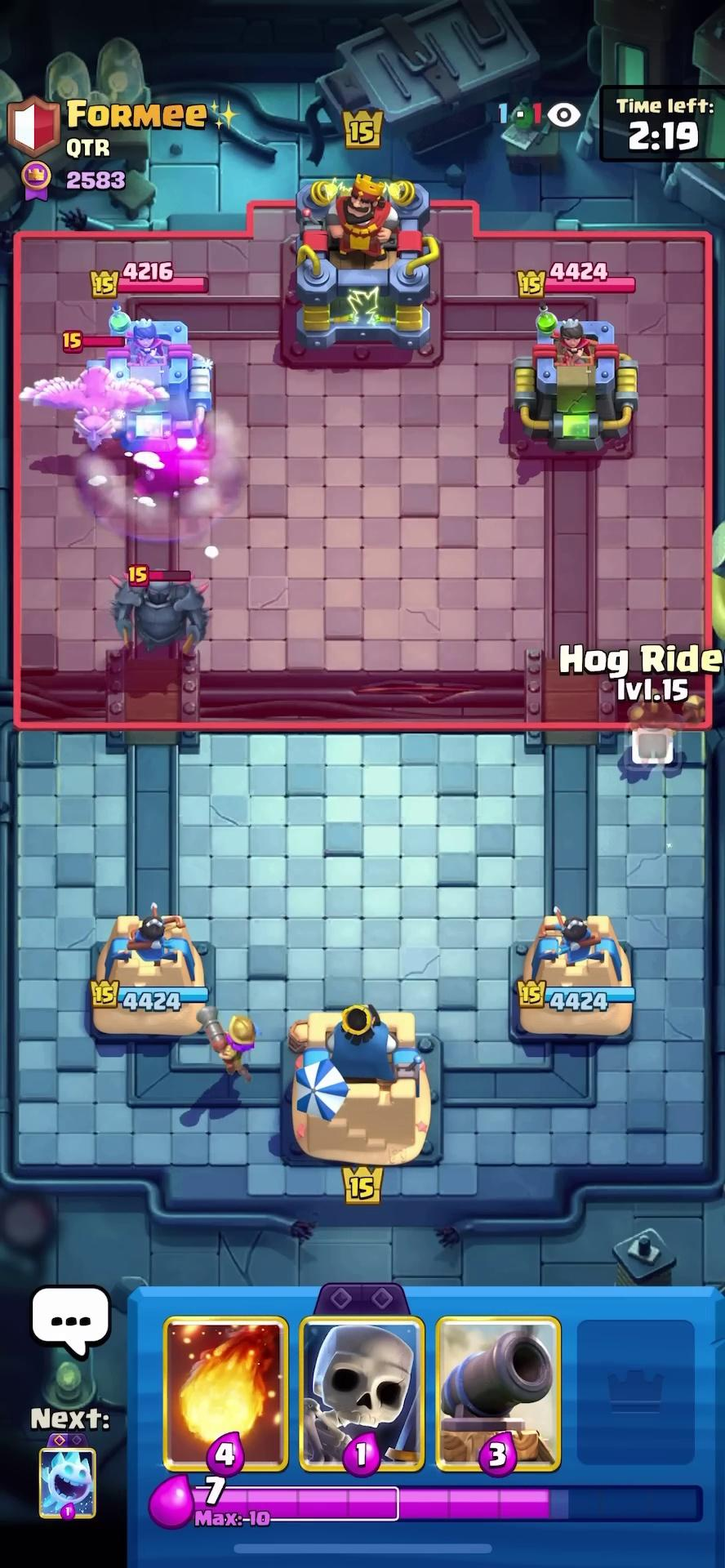musketeer: (192, 994, 274, 1076)
